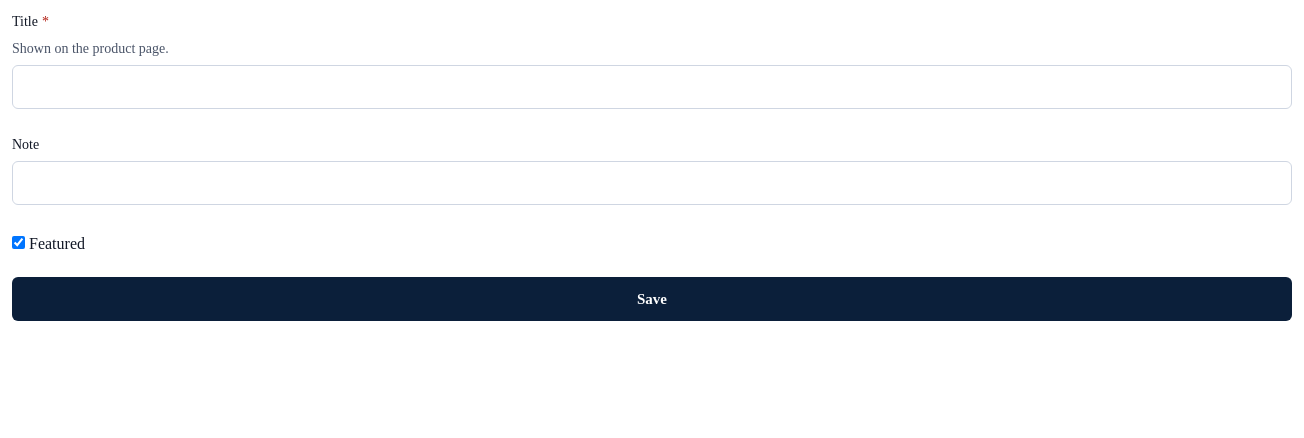
Scenario: validation errors › keeps what the user typed instead of wiping the form
Type "Stainless" into the field labelled "Note" at x=652, y=183, box left=12, top=161, right=1292, bottom=205
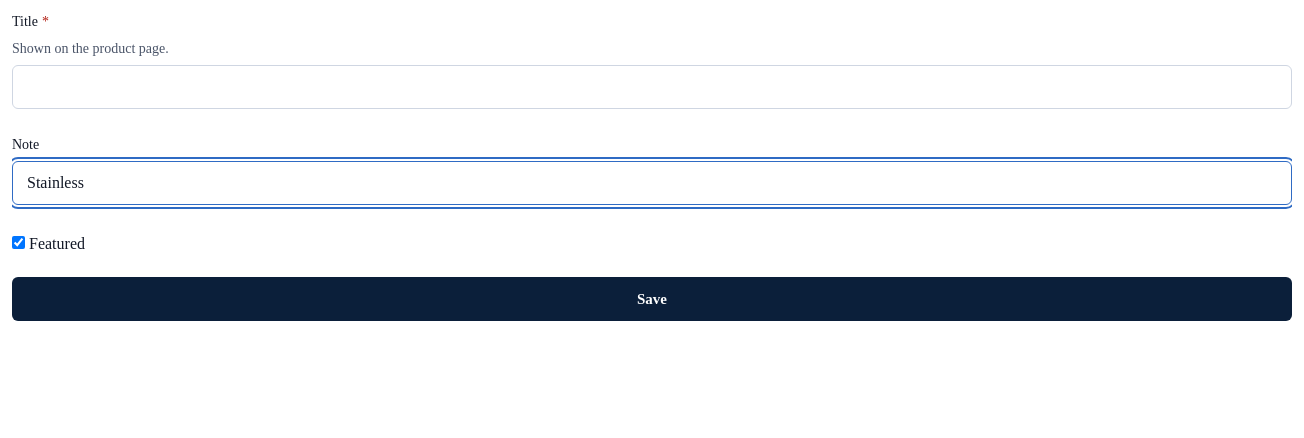
Click the button "Save" at x=652, y=299, box left=12, top=277, right=1292, bottom=321
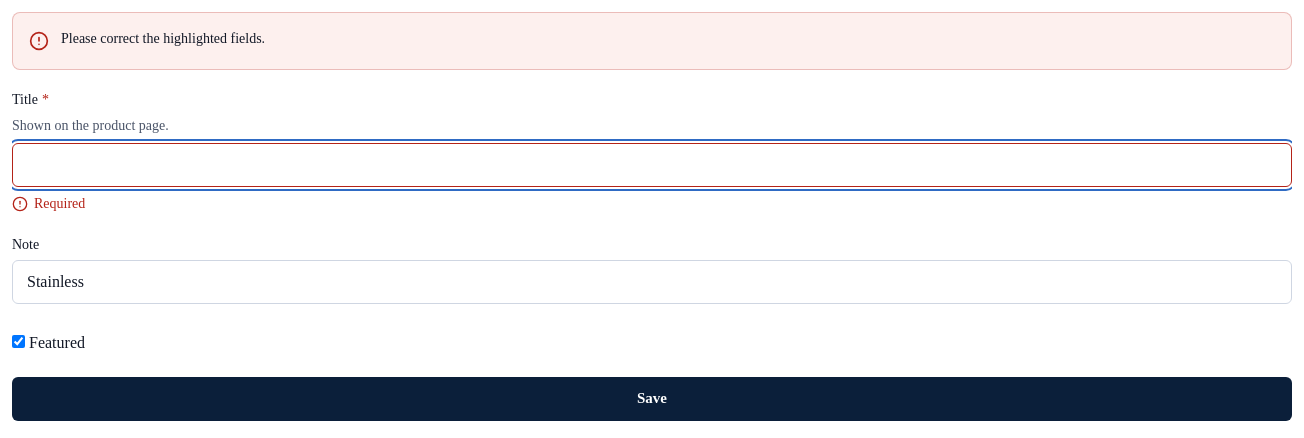
Expected: the field labelled "Title*" is empty, left=12, top=143, right=1292, bottom=187
Expected: the message "Please correct the highlighted fields." is shown, left=12, top=12, right=1292, bottom=70
